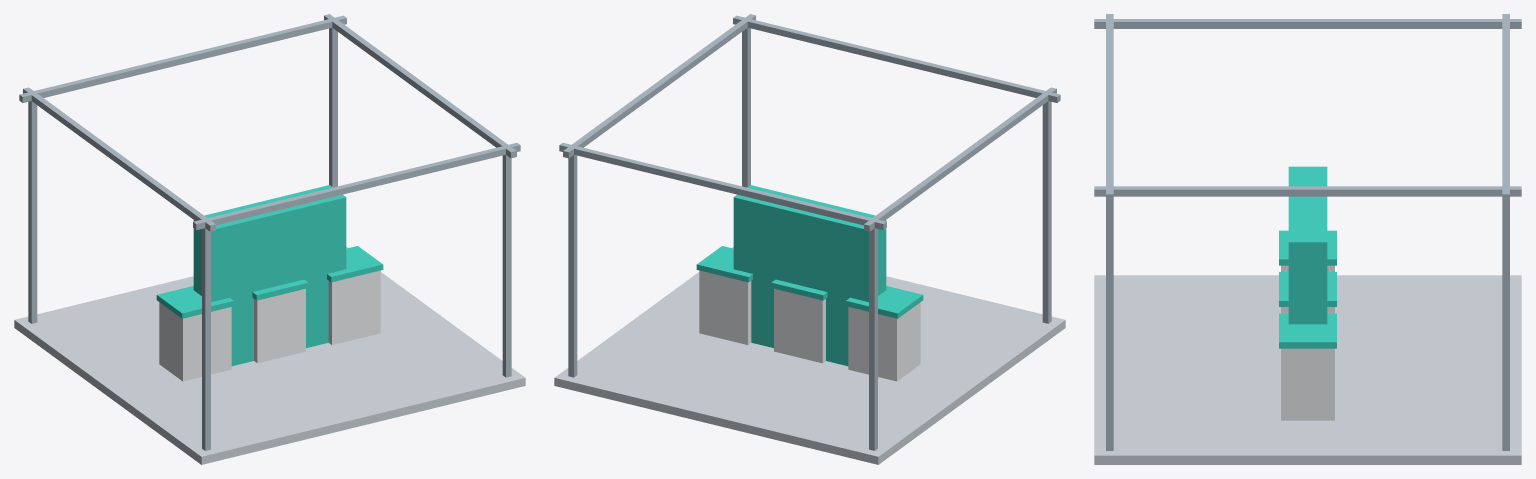
3 renders of one model, left to right at view 1: azimuth 30°, elevation 25°; view 2: azimuth 150°, elevation 25°; view 3: azimuth 270°, elevation 25°, orthographic. The views are drawn at different scales.
Parts seen in each view (by area): view 1: Exhibition Booth Concept; view 2: Exhibition Booth Concept; view 3: Exhibition Booth Concept.
Boxes of the visible parts, x1,y1,x2,y2 form: Exhibition Booth Concept: (14,14,525,464); Exhibition Booth Concept: (554,14,1065,464); Exhibition Booth Concept: (1094,14,1521,464).
Size of the model in its own units: 5 by 3.49 by 5.
